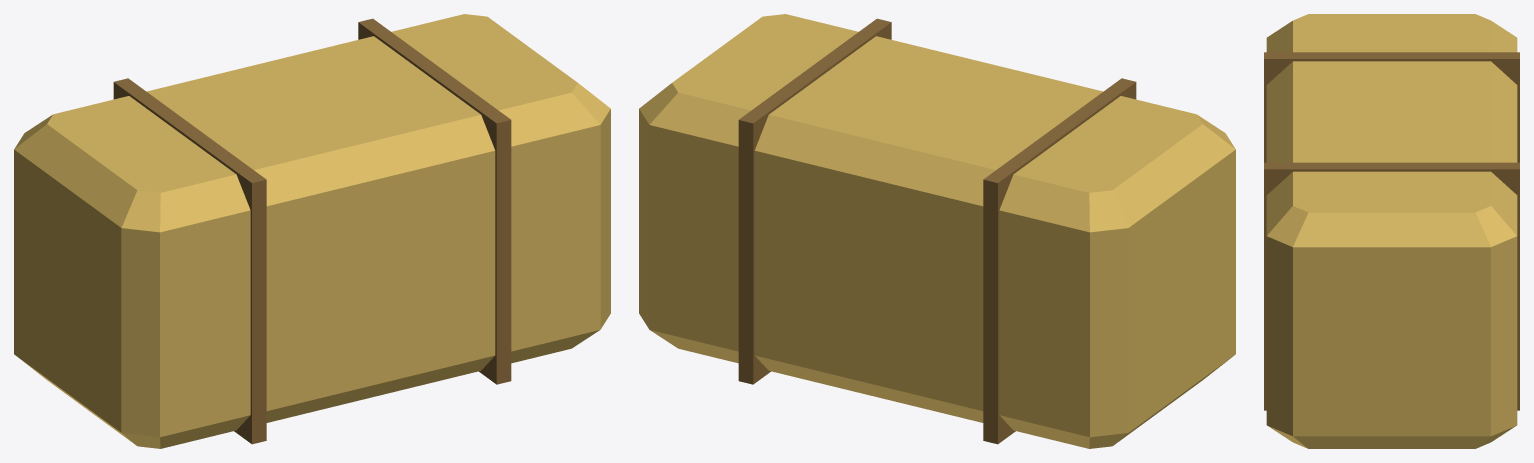
File: hay_bale.glb
The picture shows the model from 3 angles, left to right: view 1: azimuth 30°, elevation 25°; view 2: azimuth 150°, elevation 25°; view 3: azimuth 270°, elevation 25°; orthographic projection. The views are drawn at different scales.
Visible parts, largest first — view 1: hay_bale; view 2: hay_bale; view 3: hay_bale.
Part boxes in pixels (x1,y1,x2,y2): hay_bale: (14,14,610,448); hay_bale: (639,14,1235,448); hay_bale: (1264,14,1519,448).
Bounding box in the file's own units: 1 × 0.51 × 0.49.
